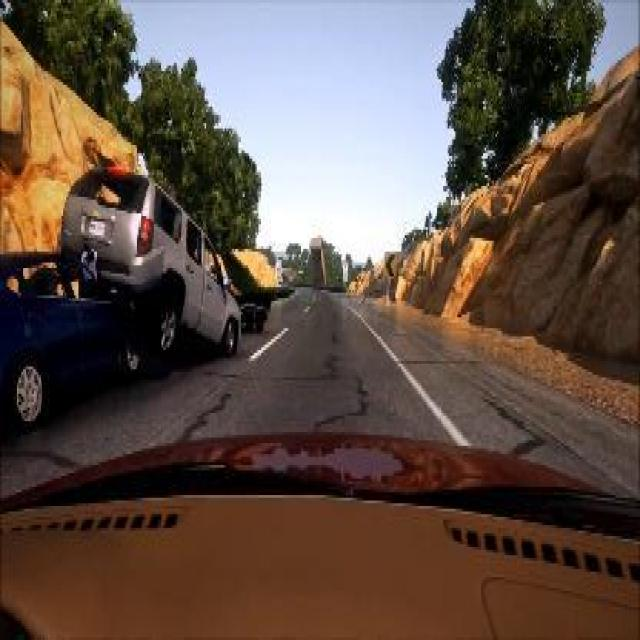accident: (2, 148, 240, 446)
